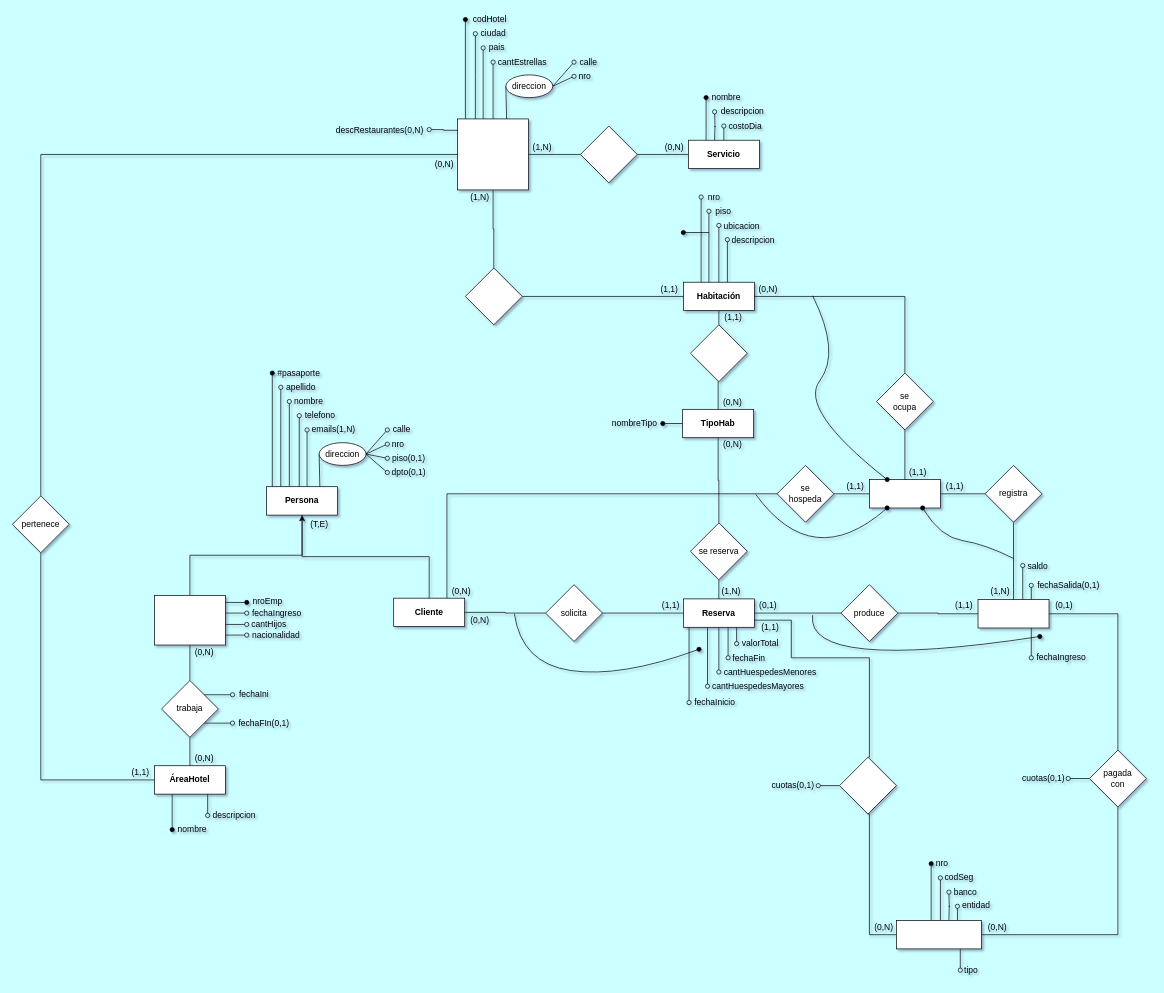
Image size: 1164x993. Some labels were removed from this diagram. The shapes that lost their labels are listed below. From the top down, each one's box as (x1, y1, x2, y2) in pixels, then its label:
(457, 118, 529, 190): Hotel
(580, 125, 637, 183): ofrece
(465, 267, 522, 325): posee hab
(690, 324, 747, 382): es tipo
(869, 479, 940, 508): Ocupación
(154, 595, 225, 645): Empleado
(977, 599, 1049, 628): Estadía
(839, 757, 896, 814): señada con
(896, 920, 982, 949): Tarjeta
